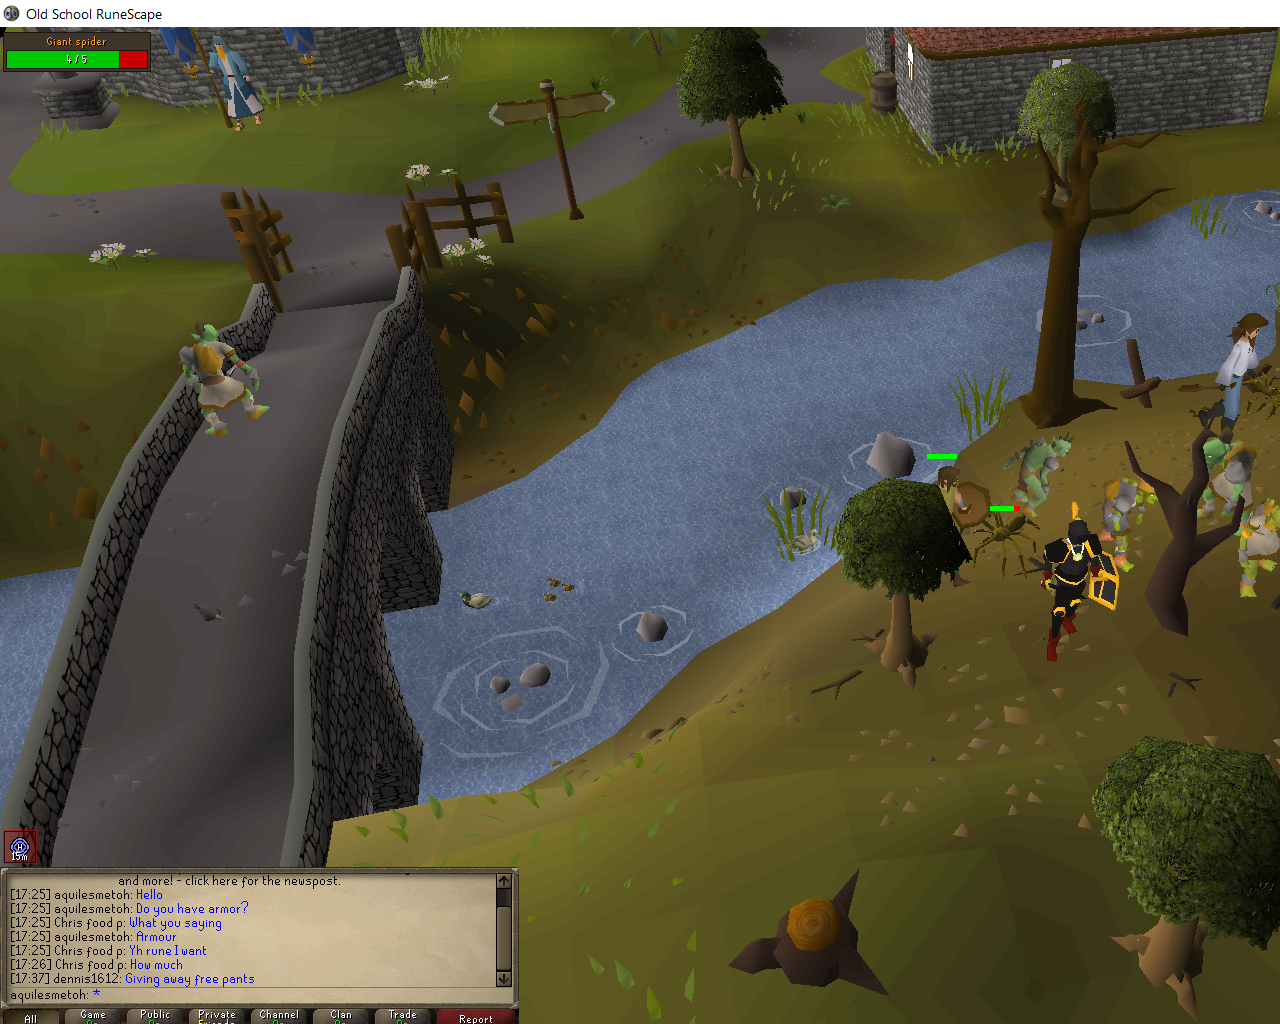Goblin: (170, 317, 279, 439), (1097, 472, 1172, 581), (1193, 434, 1267, 533), (1001, 433, 1076, 523), (1234, 501, 1280, 605)
